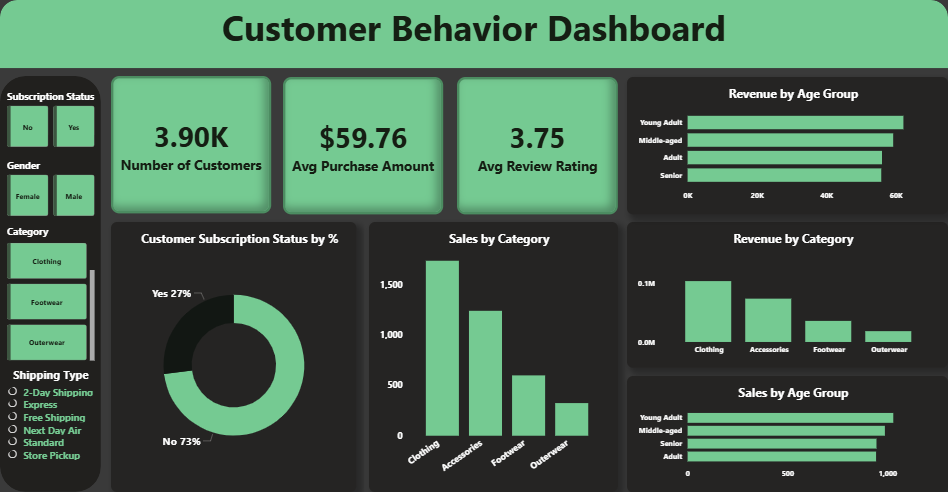

The page's visual inventory and layout, read from the dashboard file:
{"tool":"powerbi","page":{"name":"Customer Behavior","canvas":[1580,820],"ordinal":0},"visuals":[{"type":"card","fields":{"Values":["customer_behavior customer.Number of Customers"]},"box":[185.2,127.4,266.7,229.4],"z":0},{"type":"card","fields":{"Values":["customer_behavior customer.avg_review_rating"]},"box":[761.1,129.1,268.4,229.4],"z":1000},{"type":"card","fields":{"Values":["customer_behavior customer.avg_purchase_amount"]},"box":[472.3,129.1,266.7,229.4],"z":2000},{"type":"shape","box":[0,0,1580,113.8],"z":3000},{"type":"donutChart","title":"Customer Subscription Status by %","fields":{"Y":["CountNonNull(customer_behavior customer.subscription_status)"],"Category":["customer_behavior customer.subscription_status"]},"box":[185.2,370.4,409.4,450.2],"z":4000},{"type":"clusteredColumnChart","title":"Sales by Category","fields":{"Category":["customer_behavior customer.category"],"Y":["CountNonNull(customer_behavior customer.customer_id)"]},"box":[615,370.4,414.5,450.2],"z":5000},{"type":"clusteredColumnChart","title":"Revenue by Category","fields":{"Category":["customer_behavior customer.category"],"Y":["Sum(customer_behavior customer.purchase_amount)"]},"box":[1044.8,370.4,535.2,242.9],"z":6000},{"type":"clusteredBarChart","title":"Revenue by Age Group","fields":{"Category":["customer_behavior customer.age_group"],"Y":["Sum(customer_behavior customer.purchase_amount)"]},"box":[1044.8,129.1,535.2,229.4],"z":7000},{"type":"textbox","box":[0,0,1580,113.8],"z":8000},{"type":"shape","box":[0,127.4,168.2,693.2],"z":9000,"group":"g2"},{"type":"advancedSlicerVisual","title":"Subscription Status","fields":{"Values":["customer_behavior customer.subscription_status"]},"box":[6.8,151.2,156.3,100.2],"z":10000,"group":"g1"},{"type":"advancedSlicerVisual","title":"Gender","fields":{"Values":["customer_behavior customer.gender"]},"box":[6.8,266.7,156.3,100.2],"z":11000,"group":"g1"},{"type":"advancedSlicerVisual","title":"Category","fields":{"Values":["customer_behavior customer.category"]},"box":[6.8,375.5,156.3,229.4],"z":12000,"group":"g1"},{"type":"listSlicer","fields":{"Values":["customer_behavior customer.shipping_type"]},"box":[6.8,612.7,156.3,207.3],"z":13000,"group":"g1"},{"type":"clusteredBarChart","title":"Sales by Age Group","fields":{"Category":["customer_behavior customer.age_group"],"Y":["CountNonNull(customer_behavior customer.customer_id)"]},"box":[1044.8,626.9,535.2,193.7],"z":14000},{"type":"group","id":"g1","title":"Group 1","box":[6.8,151.2,156.3,668.8],"z":14001,"group":"g2"},{"type":"group","id":"g2","title":"Group 2","box":[0,127.4,168.2,693.2],"z":14002}]}

Visuals, with their boxes in screenshot pixels (x1, y1, x2, y2), scaled from the page's 1580x820 canvas onto the 948x492 screenshot:
card - customer_behavior customer.Number of Customers: {"left": 111, "top": 76, "right": 271, "bottom": 214}
card - customer_behavior customer.avg_review_rating: {"left": 457, "top": 77, "right": 618, "bottom": 215}
card - customer_behavior customer.avg_purchase_amount: {"left": 283, "top": 77, "right": 443, "bottom": 215}
shape: {"left": 0, "top": 0, "right": 947, "bottom": 68}
"Customer Subscription Status by %" donutChart: {"left": 111, "top": 222, "right": 357, "bottom": 491}
"Sales by Category" clusteredColumnChart: {"left": 369, "top": 222, "right": 618, "bottom": 491}
"Revenue by Category" clusteredColumnChart: {"left": 627, "top": 222, "right": 947, "bottom": 368}
"Revenue by Age Group" clusteredBarChart: {"left": 627, "top": 77, "right": 947, "bottom": 215}
textbox: {"left": 0, "top": 0, "right": 947, "bottom": 68}
shape: {"left": 0, "top": 76, "right": 101, "bottom": 491}
"Subscription Status" advancedSlicerVisual: {"left": 4, "top": 91, "right": 98, "bottom": 151}
"Gender" advancedSlicerVisual: {"left": 4, "top": 160, "right": 98, "bottom": 220}
"Category" advancedSlicerVisual: {"left": 4, "top": 225, "right": 98, "bottom": 363}
listSlicer - customer_behavior customer.shipping_type: {"left": 4, "top": 368, "right": 98, "bottom": 491}
"Sales by Age Group" clusteredBarChart: {"left": 627, "top": 376, "right": 947, "bottom": 491}
"Group 1" group: {"left": 4, "top": 91, "right": 98, "bottom": 491}
"Group 2" group: {"left": 0, "top": 76, "right": 101, "bottom": 491}
